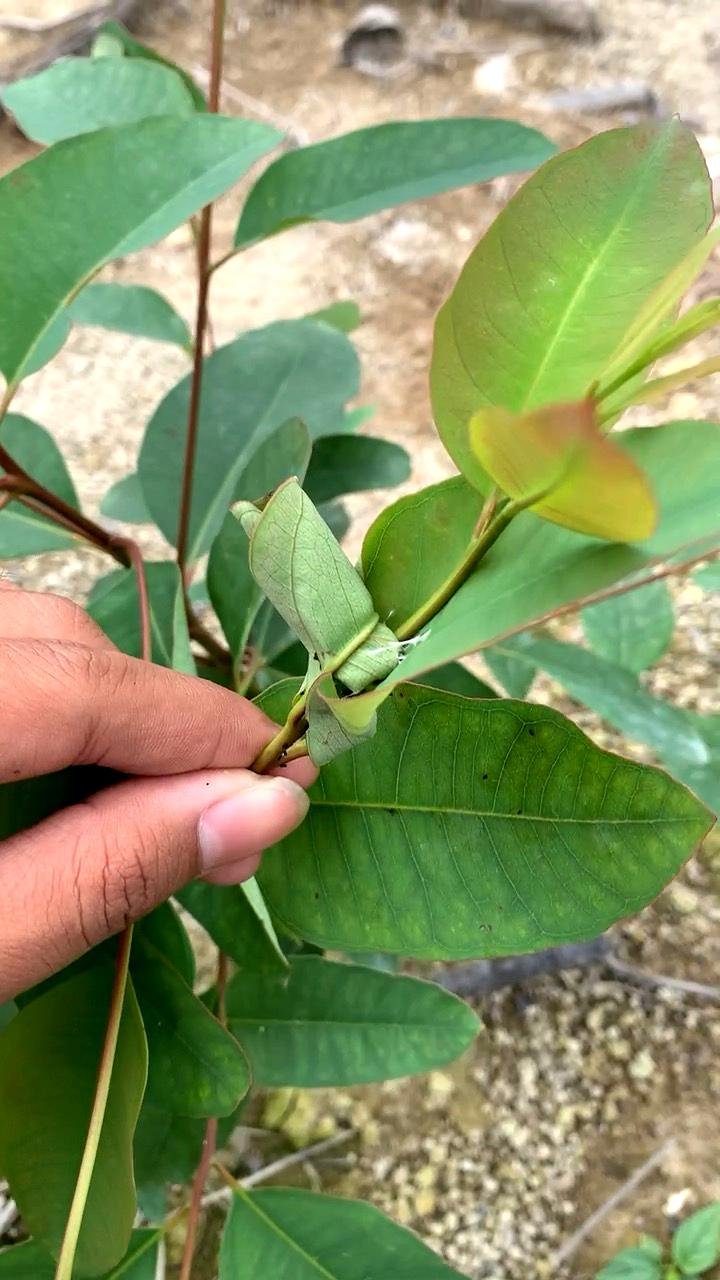Leaf Roller - Leaf: (213, 453, 437, 764)
